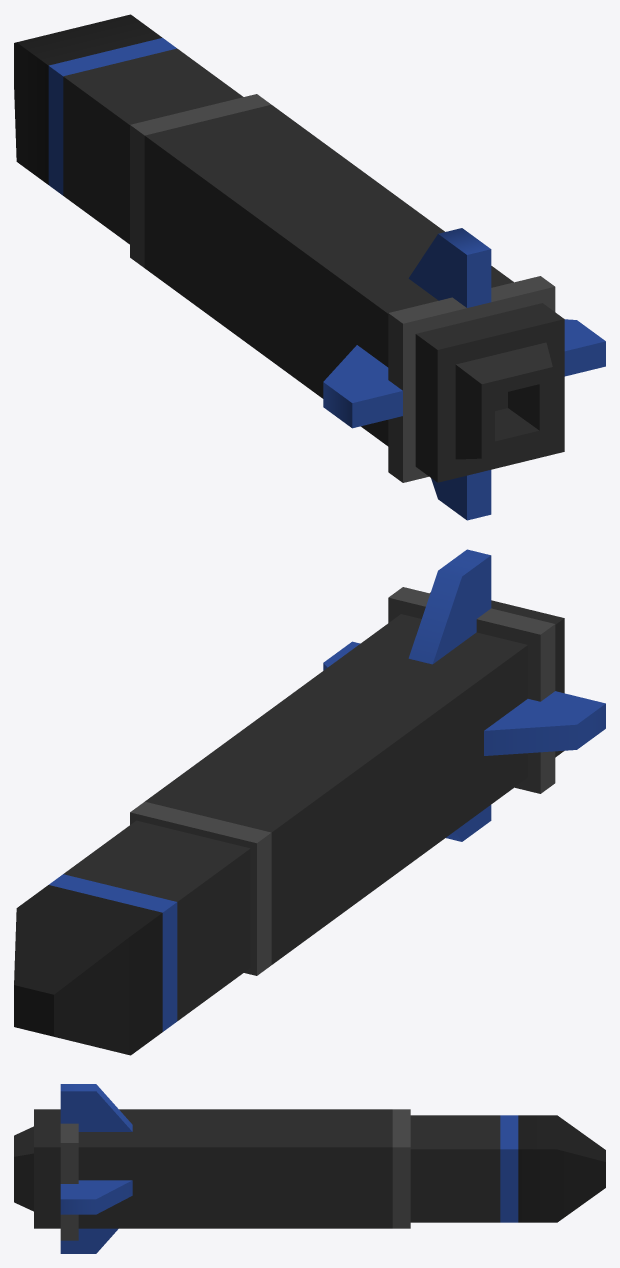
Rendered from Missile.dae.
The picture shows the model from 3 angles, top to bottom: view 1: azimuth 30°, elevation 25°; view 2: azimuth 150°, elevation 25°; view 3: azimuth 270°, elevation 25°; orthographic projection. The views are drawn at different scales.
Visible parts, largest first — view 1: Box_3, Box_6, Box_1, Box_5; view 2: Box_3, Box_5, Box_6, Box_1; view 3: Box_3, Box_6, Box_5, Box_1.
Boxes of the visible parts, x1,y1,x2,y2 form: Box_3: (63,48,564,482); Box_6: (48,38,605,520); Box_1: (130,94,555,482); Box_5: (14,14,162,184); Box_3: (63,592,564,1020); Box_5: (14,885,162,1055); Box_6: (49,549,605,1031); Box_1: (130,587,555,975); Box_3: (14,1109,500,1228); Box_6: (60,1084,518,1253); Box_5: (518,1115,605,1222); Box_1: (60,1109,410,1240).
Bounding box in the file's own units: 1 × 1 × 3.3.
